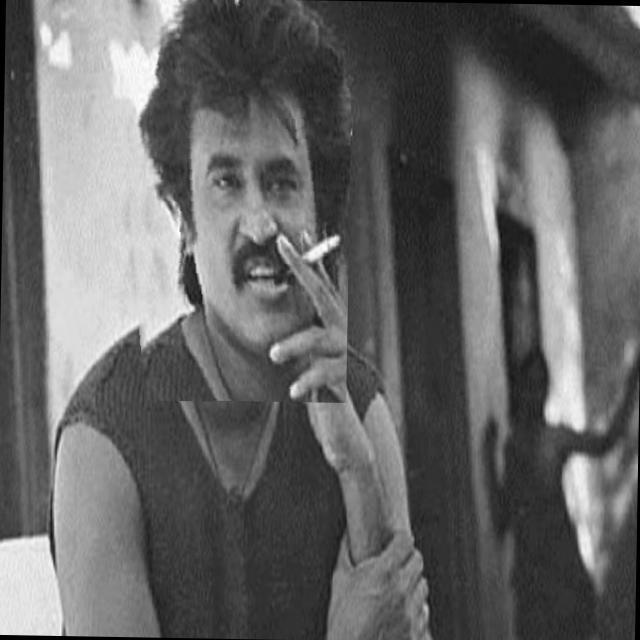cigarette: (254, 217, 330, 296)
